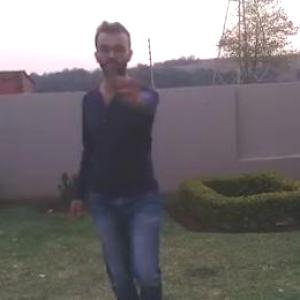takeoff-hand: (111, 60, 153, 102)
